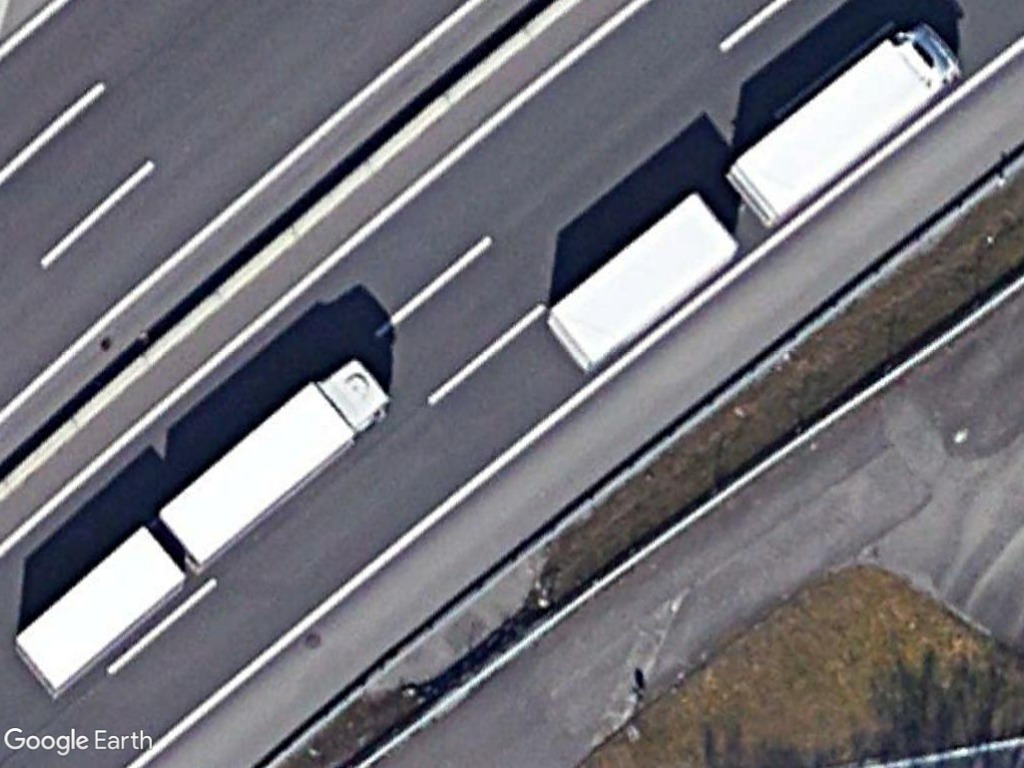truck: (153, 358, 391, 571), (724, 23, 962, 225)
